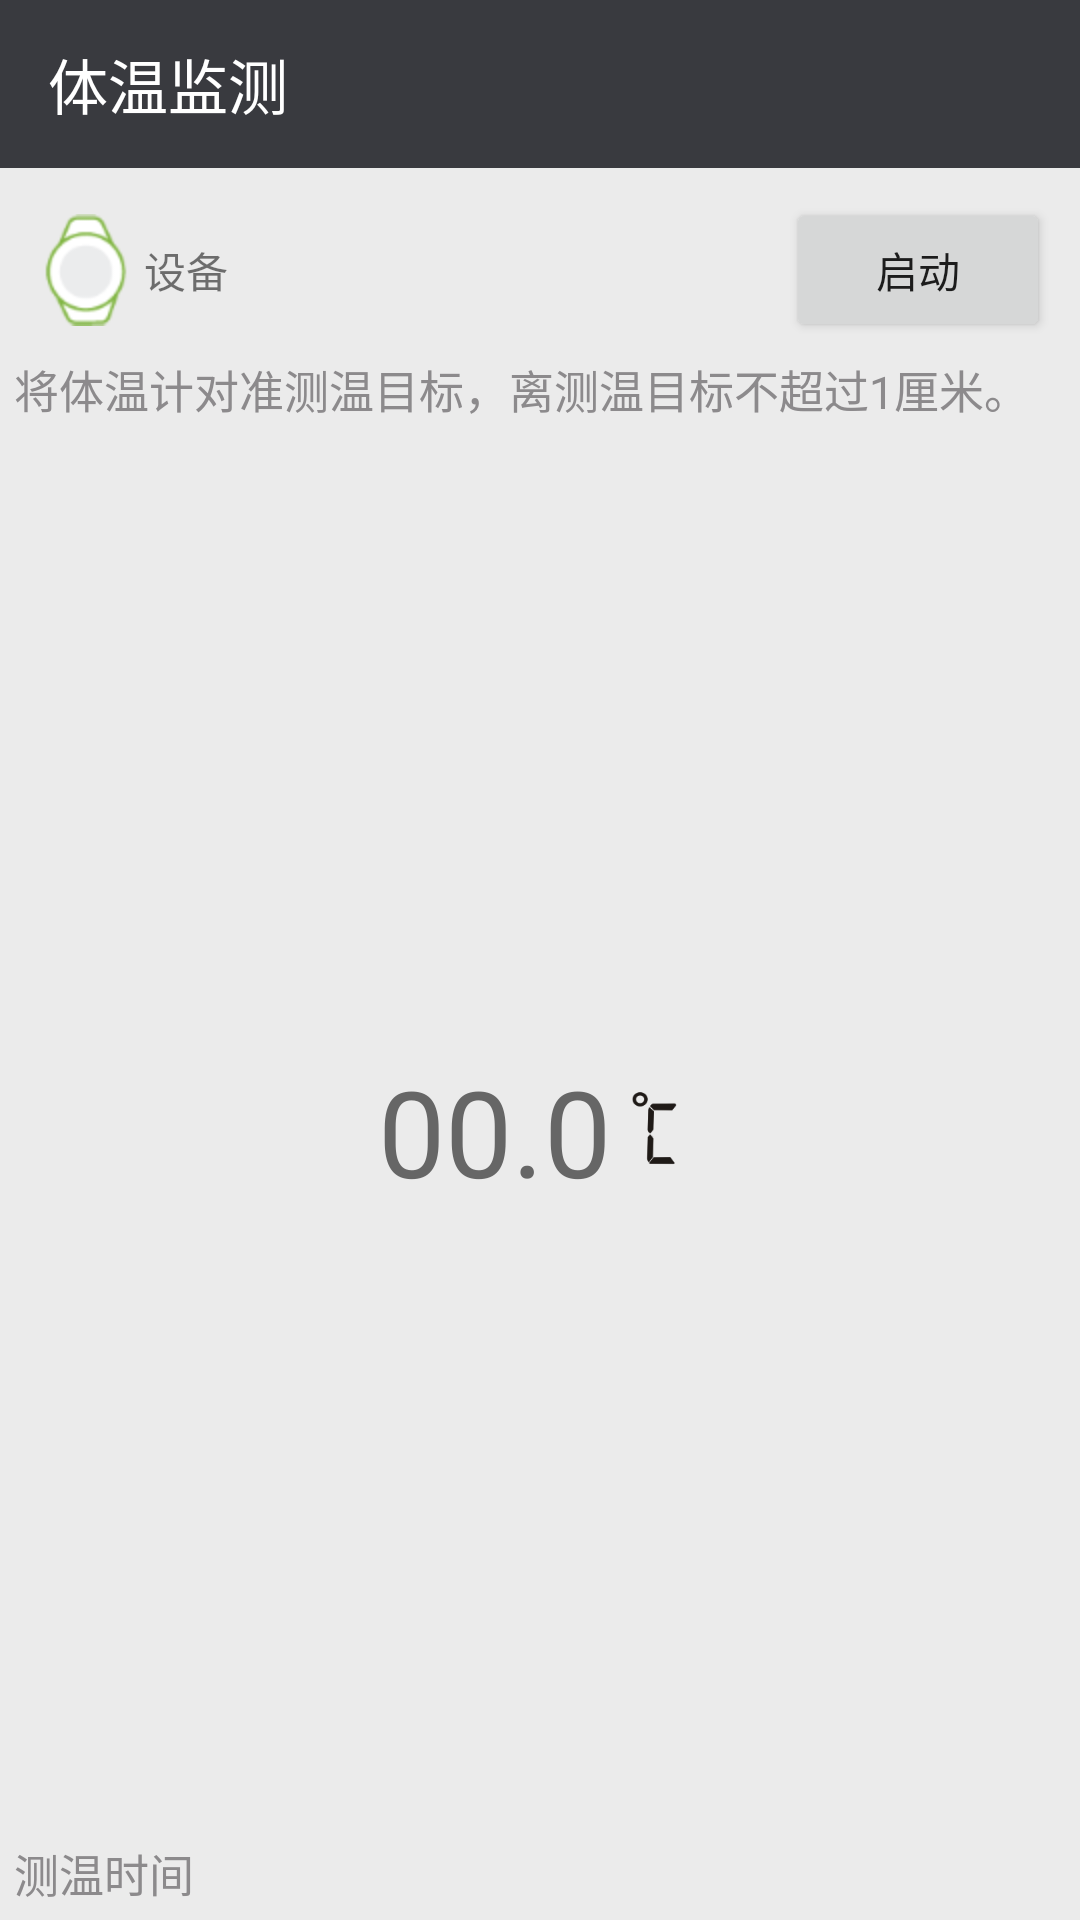

Point at icon controls on the screen. Image size 1080px x 1920px, points as [x,y].
配件运动: [85,270]
